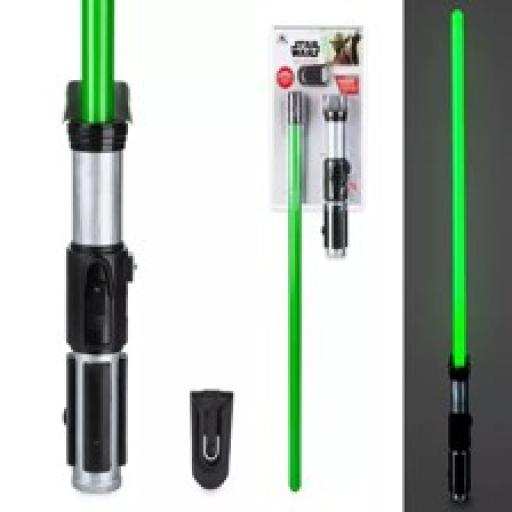lightsaber: (60, 77, 138, 497), (442, 2, 480, 506), (324, 92, 352, 260)
